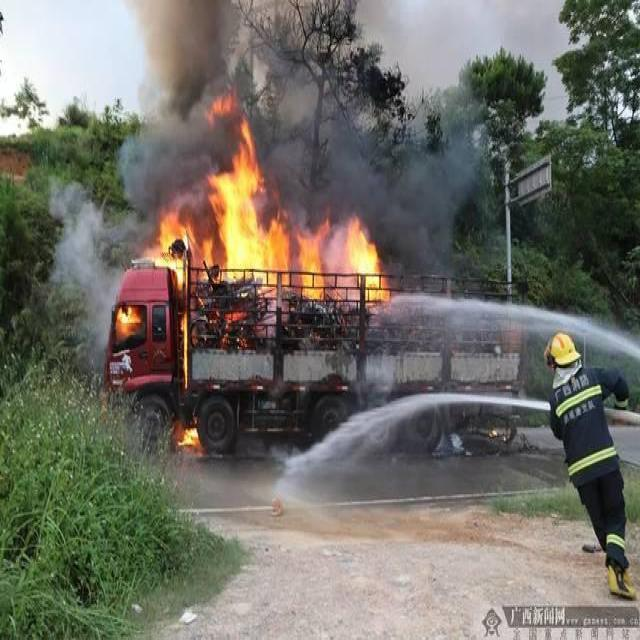fire: (140, 100, 394, 307), (114, 293, 145, 338), (176, 417, 206, 452), (179, 310, 190, 391)
smoke: (152, 4, 255, 104), (122, 113, 210, 191), (389, 157, 458, 244), (57, 202, 116, 293), (314, 140, 381, 212)
